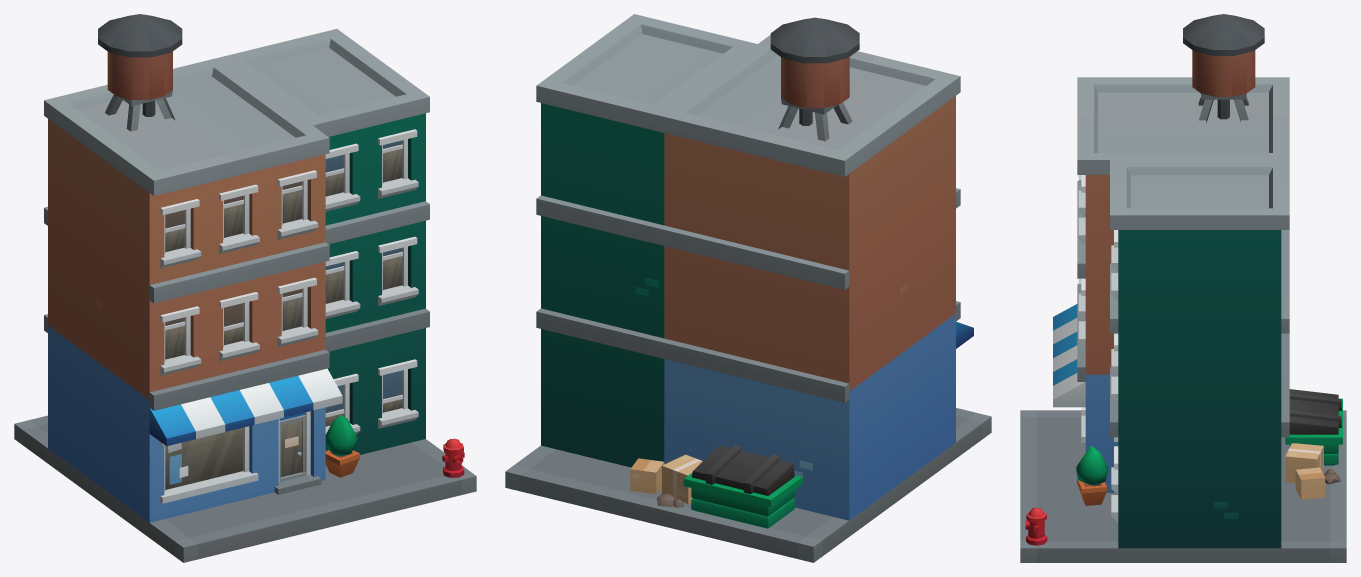
The model's file is bkay.glb.
3 renders of one model, left to right at view 1: azimuth 30°, elevation 25°; view 2: azimuth 150°, elevation 25°; view 3: azimuth 270°, elevation 25°, orthographic. The views are drawn at different scales.
Visible parts, largest first — view 1: building_G; view 2: building_G; view 3: building_G.
Boxes of the visible parts, bbox=[...] form: building_G: bbox=[14, 14, 476, 562]; building_G: bbox=[505, 14, 991, 562]; building_G: bbox=[1020, 14, 1346, 562].
Bounding box in the file's own units: 2.01 × 2.98 × 2.
1 material, 1 textured.
